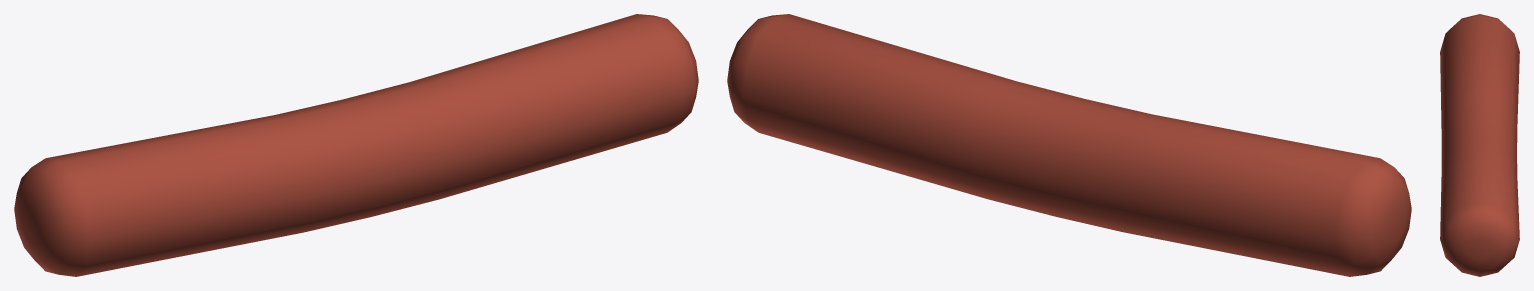
Rendered from Sausage.002.fbx.
3 views of the same model, side by side, from view 1: azimuth 30°, elevation 25°; view 2: azimuth 150°, elevation 25°; view 3: azimuth 270°, elevation 25° (orthographic). The views are drawn at different scales.
Parts seen in each view (by area): view 1: Sausage.002; view 2: Sausage.002; view 3: Sausage.002.
Part boxes in pixels (x1,y1,x2,y2): Sausage.002: (14, 14, 698, 276); Sausage.002: (727, 14, 1411, 276); Sausage.002: (1440, 14, 1519, 276).
Size of the model in its own units: 160 by 25.95 by 28.84.
